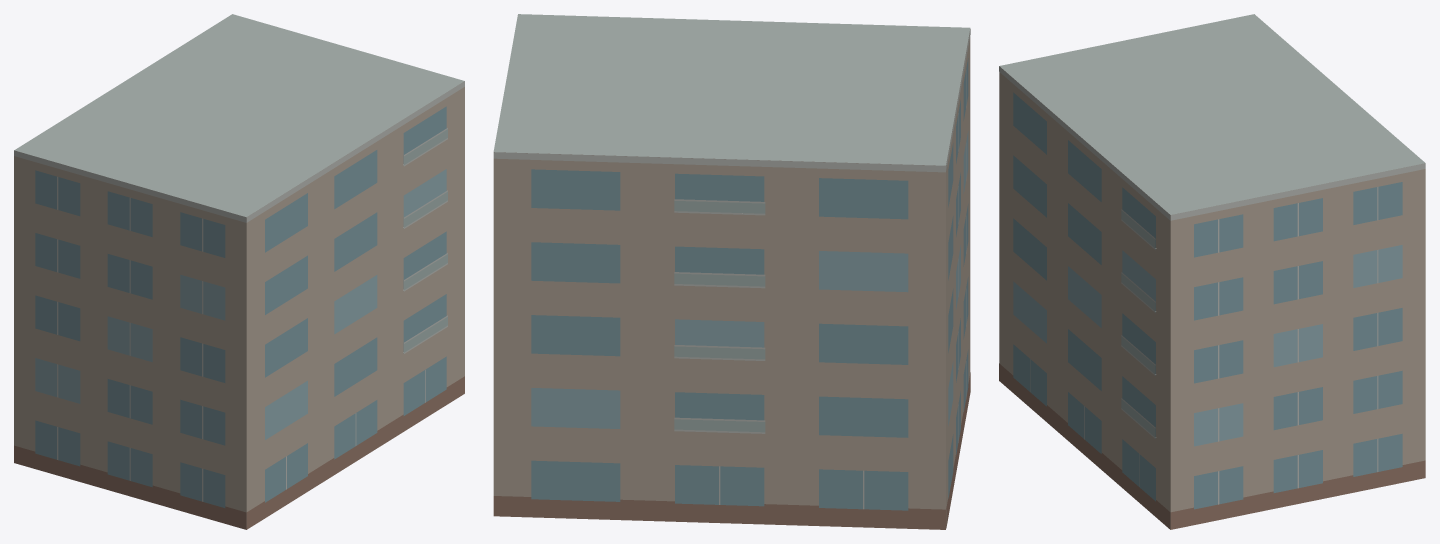
The model's file is survey-upis-32707208.glb.
3 views of the same model, side by side, from view 1: azimuth 30°, elevation 25°; view 2: azimuth 150°, elevation 25°; view 3: azimuth 270°, elevation 25° (orthographic). The views are drawn at different scales.
Visible parts, largest first — view 1: survey-upis-32707208.tmp; view 2: survey-upis-32707208.tmp; view 3: survey-upis-32707208.tmp.
Part boxes in pixels (box(x1,y1,x2,y2)): survey-upis-32707208.tmp: box(14, 14, 464, 529); survey-upis-32707208.tmp: box(493, 14, 970, 529); survey-upis-32707208.tmp: box(999, 14, 1425, 529).
Bounding box in the file's own units: 18.36 × 13.4 × 16.46.
